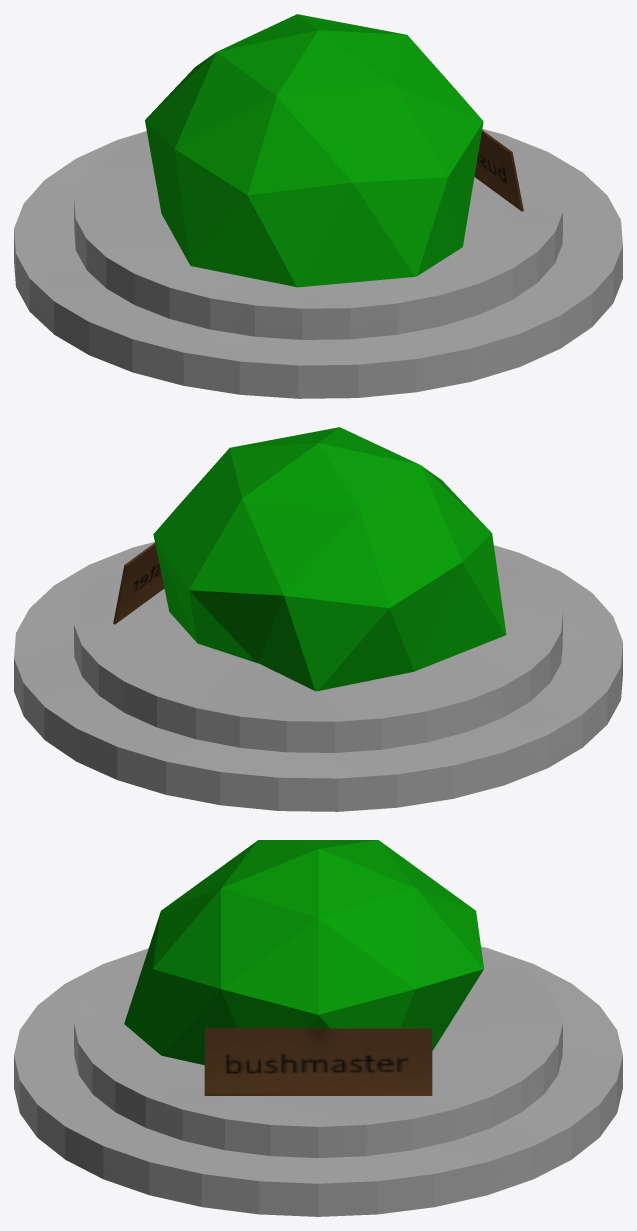
Rendered from bushmaster2.dae.
The picture shows the model from 3 angles, top to bottom: view 1: azimuth 30°, elevation 25°; view 2: azimuth 150°, elevation 25°; view 3: azimuth 270°, elevation 25°; orthographic projection.
Visible parts, largest first — view 1: Circle; view 2: Circle; view 3: Circle.
Part boxes in pixels (box(x1,y1,x2,y2)): Circle: box(14, 14, 622, 398); Circle: box(14, 427, 622, 811); Circle: box(14, 840, 622, 1216).
Size of the model in its own units: 0.3875 by 0.3875 by 0.1682.
Materials: 1 (1 with a texture image).
